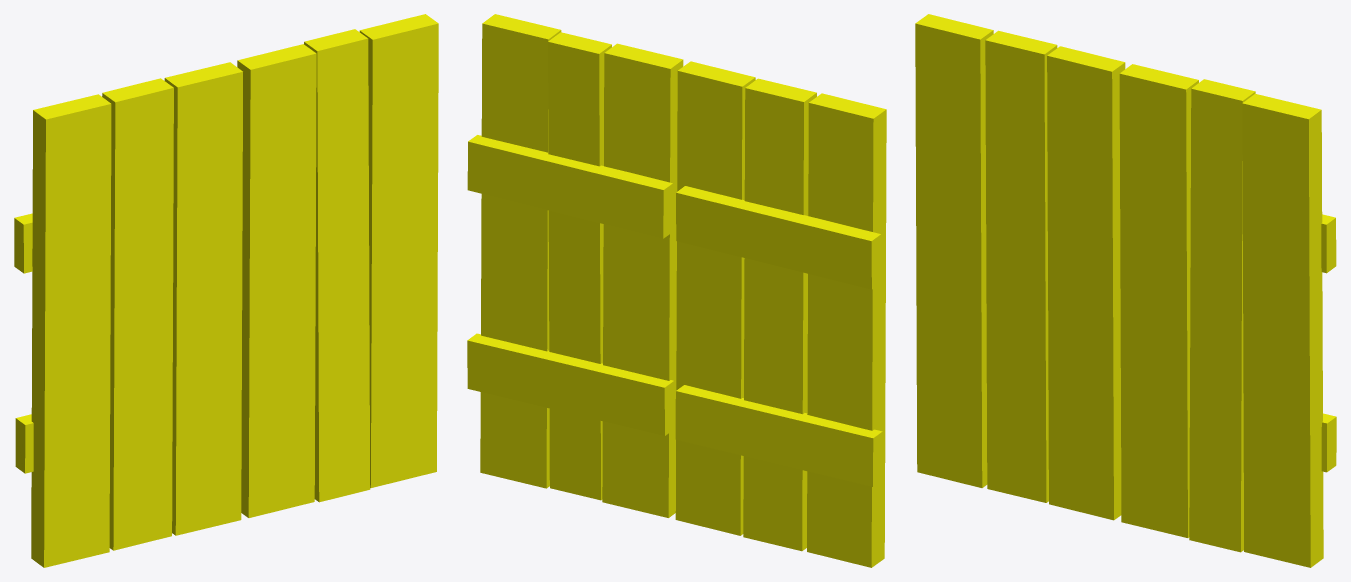
File: windowshutters-wide-flat-closed.glb
3 views of the same model, side by side, from view 1: azimuth 30°, elevation 25°; view 2: azimuth 150°, elevation 25°; view 3: azimuth 330°, elevation 25° (orthographic).
Parts seen in each view (by area): view 1: WindowShutters_Wide_Flat_Closed; view 2: WindowShutters_Wide_Flat_Closed; view 3: WindowShutters_Wide_Flat_Closed.
Boxes of the visible parts, left/top/right/bottom form: WindowShutters_Wide_Flat_Closed: left=14, top=14, right=438, bottom=567; WindowShutters_Wide_Flat_Closed: left=467, top=14, right=886, bottom=567; WindowShutters_Wide_Flat_Closed: left=915, top=14, right=1336, bottom=567.
Bounding box in the file's own units: 1.35 × 1.42 × 0.1358.
Materials: 1 (1 with a texture image).
